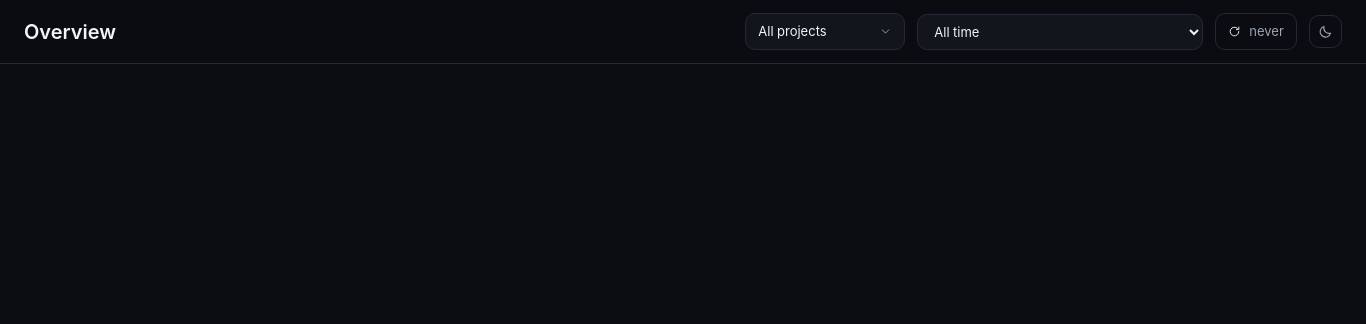
Test case: §4.2 — the three states, and only three › adds a second project without dropping the first
Click the button with test id "project-filter" at (825, 32), box [745,13,905,50]
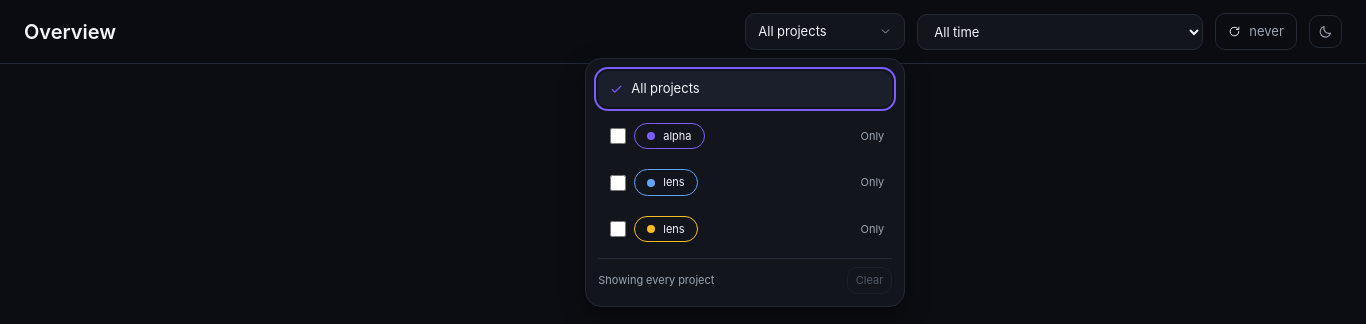
Now the button with test id "project-filter-all" is shown, box [598,71,892,107]
Click the checkbox labelled "alpha" at (618, 136), box [610,128,626,144]
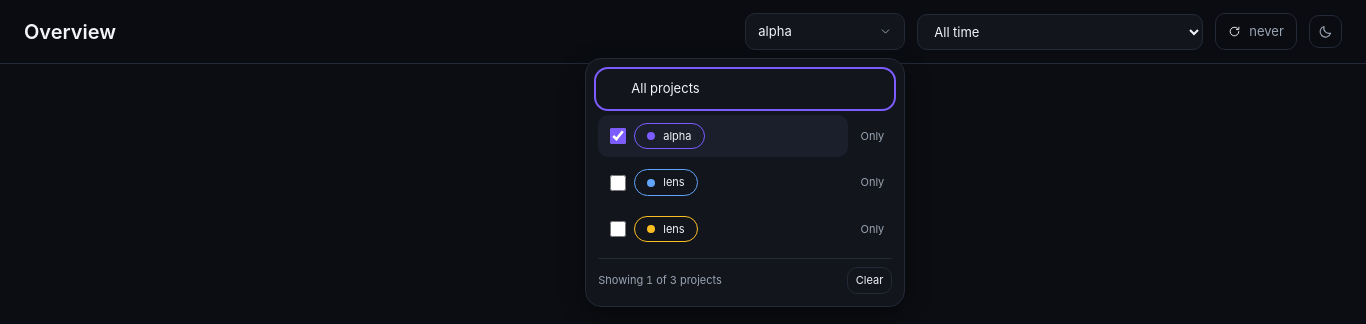
Click the 2nd checkbox labelled "lens" at (618, 229), box [610,221,626,237]
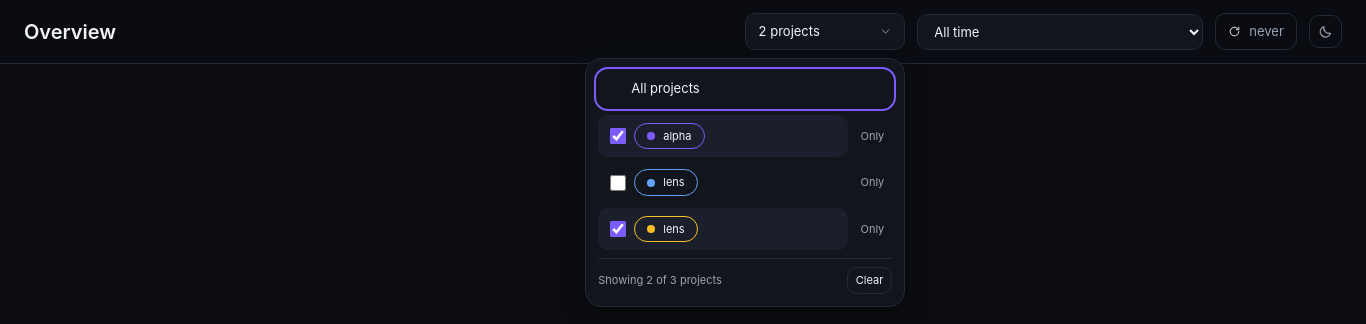
Now the text with test id "project-filter-summary" reads "Showing 2 of 3 projects", box [598,273,722,287]
